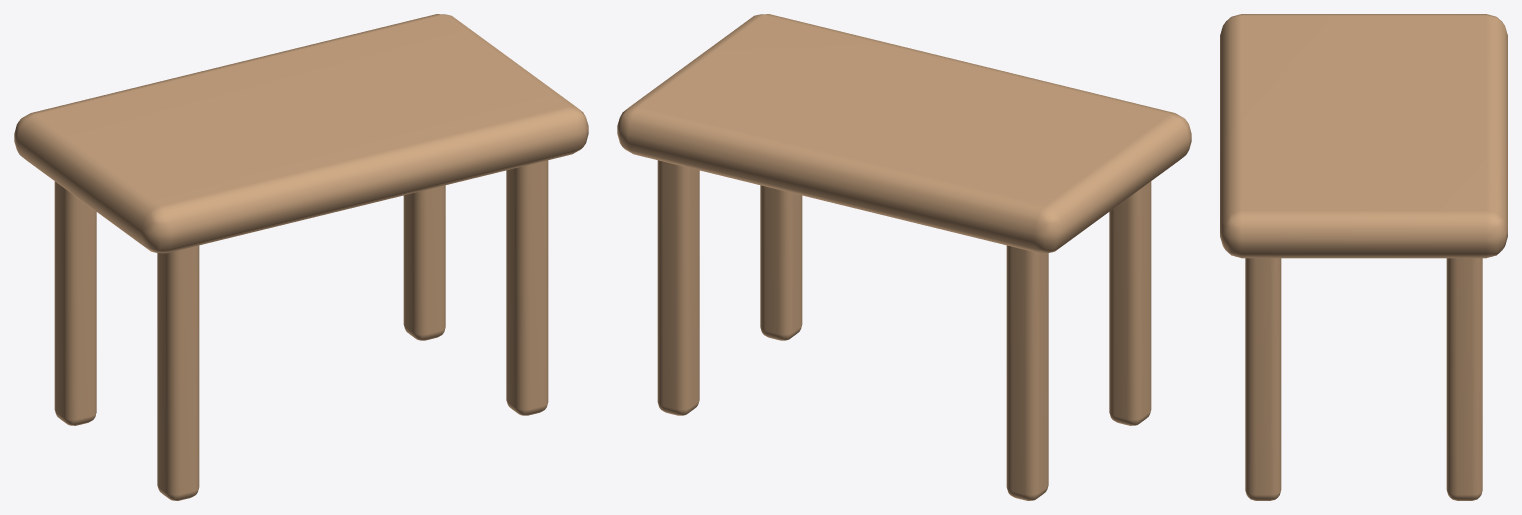
Rendered from word-table.glb.
3 renders of one model, left to right at view 1: azimuth 30°, elevation 25°; view 2: azimuth 150°, elevation 25°; view 3: azimuth 270°, elevation 25°, orthographic.
Visible parts, largest first — view 1: table top, table leg, table leg.002, table leg.001, table leg.003; view 2: table top, table leg.001, table leg.003, table leg, table leg.002; view 3: table top, table leg.002, table leg.003.
Part boxes in pixels (bbox=[...]): table top: bbox=[14, 14, 588, 253]; table leg: bbox=[157, 245, 199, 500]; table leg.002: bbox=[506, 160, 548, 415]; table leg.001: bbox=[54, 181, 96, 425]; table leg.003: bbox=[403, 185, 445, 340]; table top: bbox=[617, 14, 1191, 253]; table leg.001: bbox=[1006, 245, 1048, 500]; table leg.003: bbox=[657, 160, 699, 415]; table leg: bbox=[1109, 181, 1151, 425]; table leg.002: bbox=[760, 185, 802, 340]; table top: bbox=[1220, 14, 1507, 258]; table leg.002: bbox=[1245, 258, 1281, 500]; table leg.003: bbox=[1446, 258, 1482, 500].
Size of the model in its own units: 1.4 by 0.92 by 0.8.
